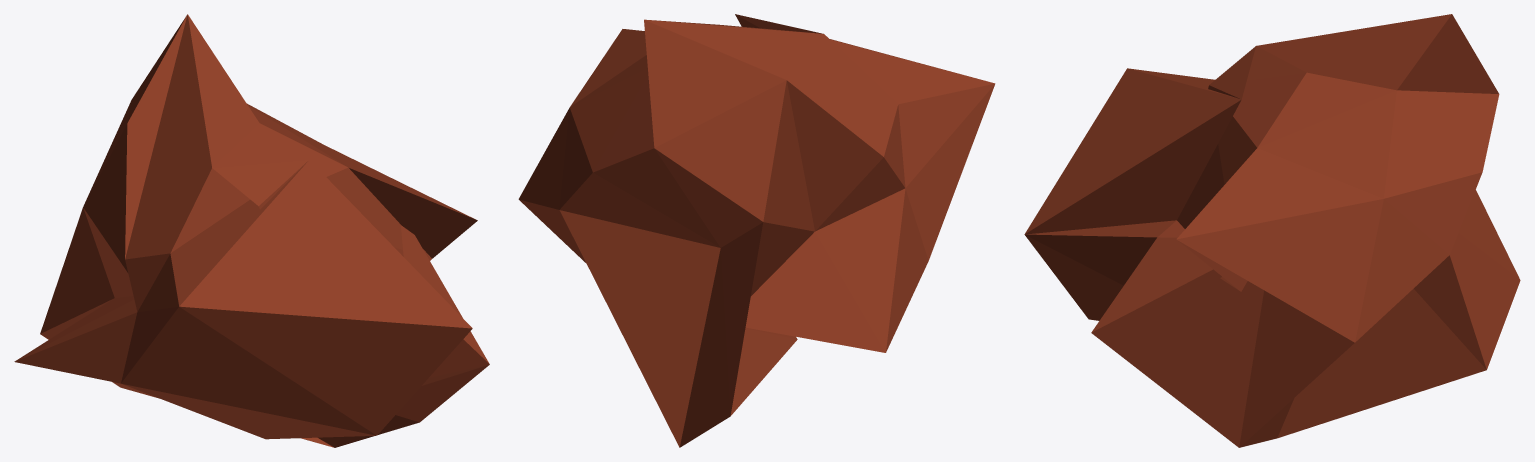
The model's file is Marsstein1.glb.
The picture shows the model from 3 angles, left to right: view 1: azimuth 30°, elevation 25°; view 2: azimuth 150°, elevation 25°; view 3: azimuth 270°, elevation 25°; orthographic projection. The views are drawn at different scales.
Visible parts, largest first — view 1: Marsstein1; view 2: Marsstein1; view 3: Marsstein1.
Part boxes in pixels (bbox=[...]): Marsstein1: bbox=[14, 14, 489, 447]; Marsstein1: bbox=[518, 14, 995, 447]; Marsstein1: bbox=[1024, 14, 1520, 447].
Size of the model in its own units: 0.1412 by 0.1433 by 0.1636.
